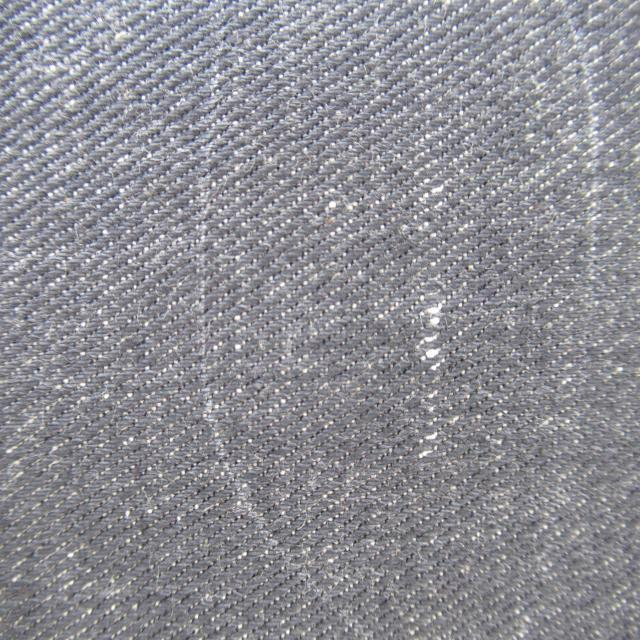pulled_or_thick_thread: (412, 292, 452, 471)
